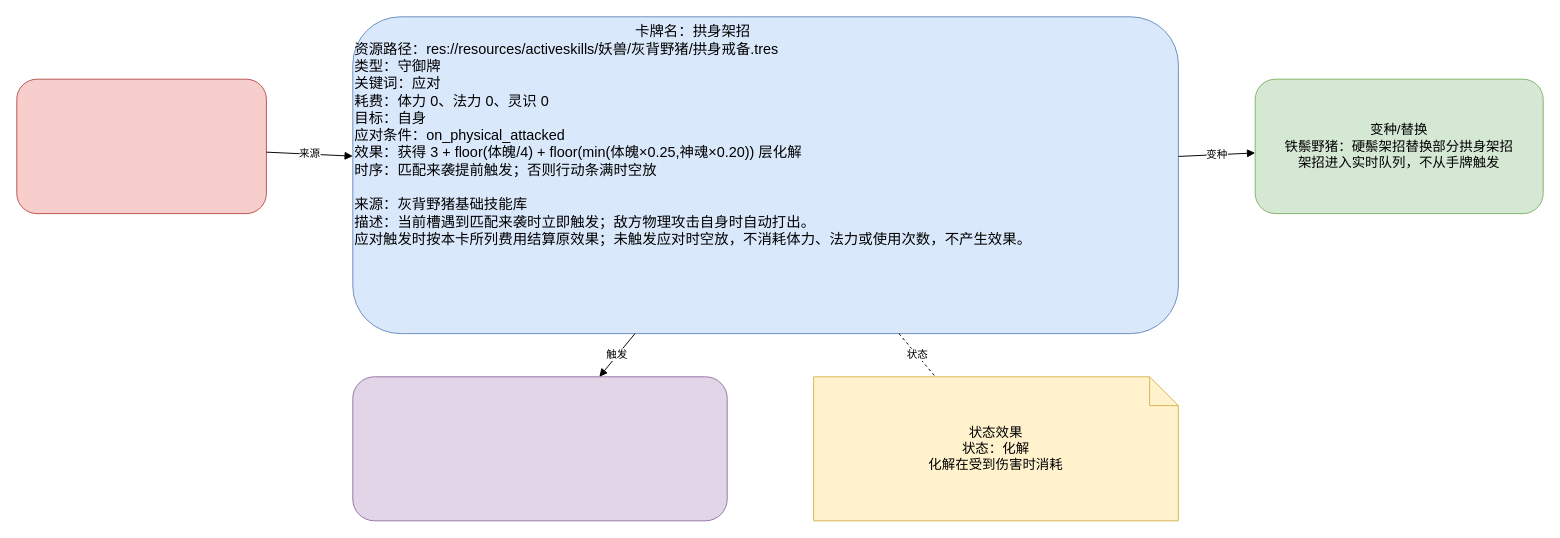
Some shapes in this 1560 by 538 pixel diagram are drawn without their labels. The box of each missing label's shape, as (x1, y1, x2, y2) in pixels:
来源/前置 来源分类：妖兽技能 来源兽种：灰背野猪 基础技能库：灰背野猪 前置：无: (16, 78, 266, 214)
触发与限制 只检查当前槽，不持招等待 匹配物理攻击时先于攻击结算 未触发时行动条满后空放；不扣费、不产生效果: (352, 376, 727, 521)
